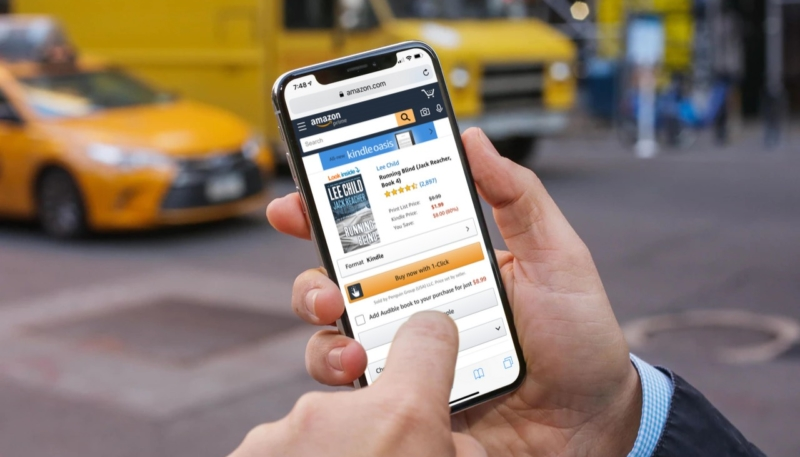Cell Phone: (273, 50, 521, 412)
